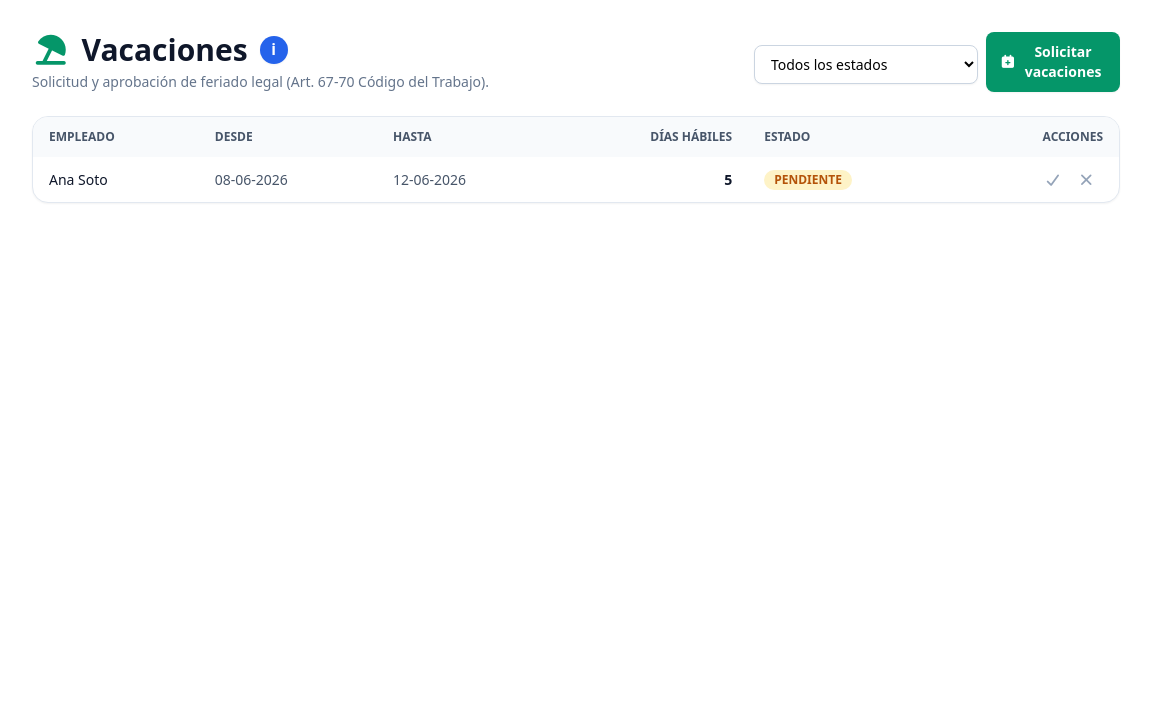
Test: VacacionesRrhh › abre el modal y muestra el saldo disponible al elegir empleado
Expected: the text "Ana Soto" is shown, left=33, top=157, right=199, bottom=202
Click the button "Solicitar vacaciones".
click(1053, 62)  # box left=986, top=32, right=1120, bottom=92
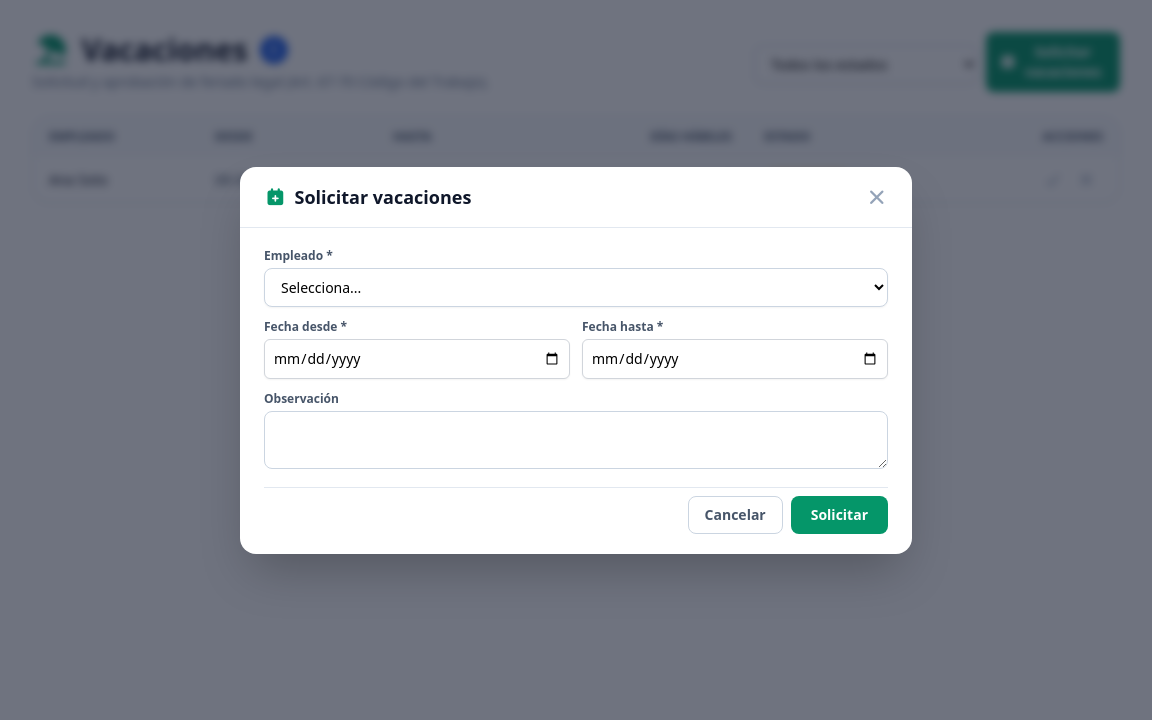
Select "11.111.111-1 — Ana Soto" in the dropdown showing "Selecciona..." at point(576, 287), box left=264, top=268, right=888, bottom=306
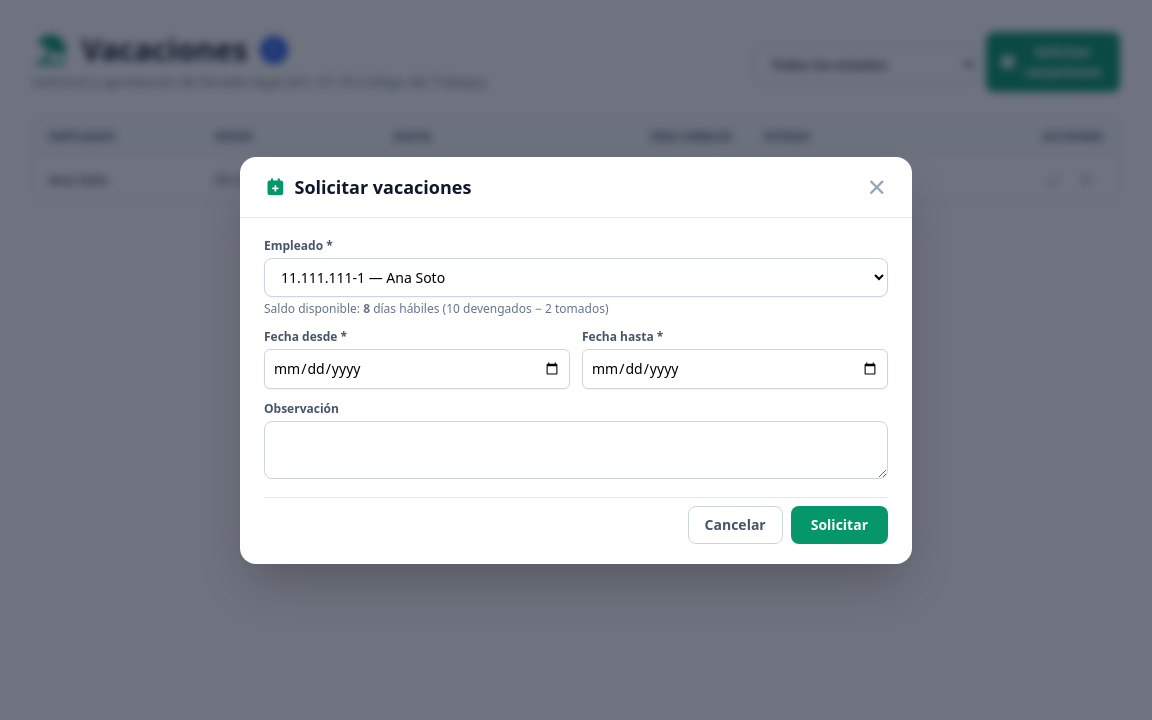
Now the text "Saldo disponible: 8 días hábiles (10 devengados − 2 tomados)" is shown, box left=264, top=300, right=608, bottom=316
